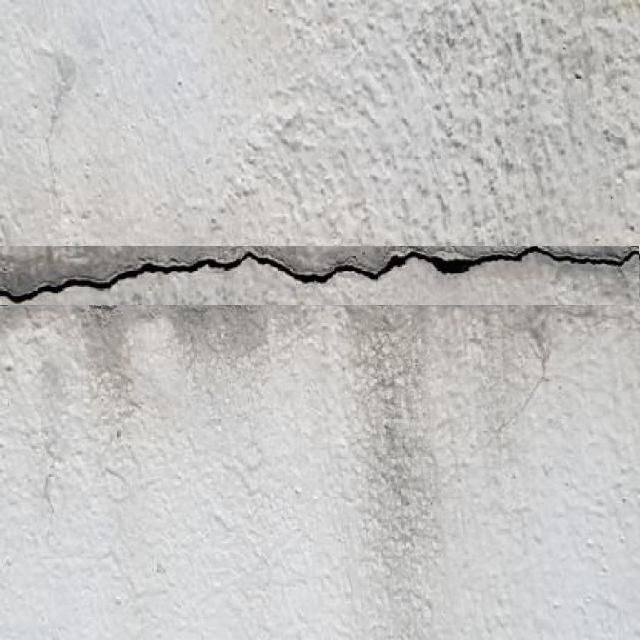crack: (0, 242, 639, 308)
